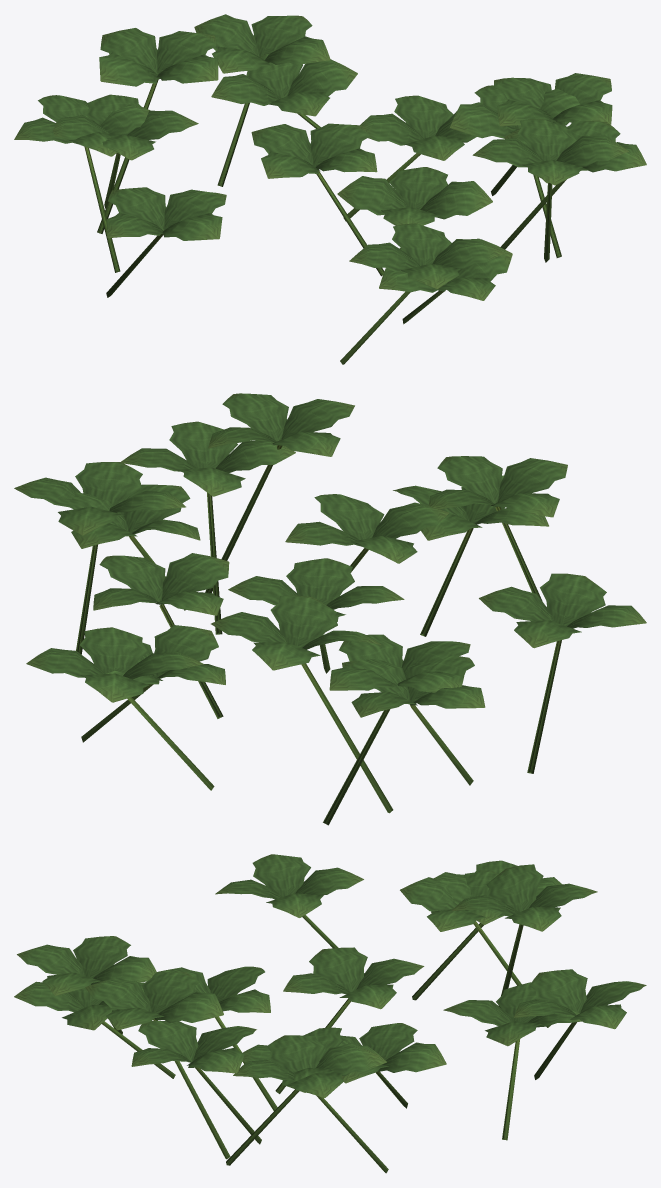
File: GroundIvy_B.fbx
3 views of the same model, one above another, from view 1: azimuth 30°, elevation 25°; view 2: azimuth 150°, elevation 25°; view 3: azimuth 270°, elevation 25° (orthographic). The views are drawn at different scales.
Parts seen in each view (by area): view 1: GroundIvy_B_LOD0; view 2: GroundIvy_B_LOD0; view 3: GroundIvy_B_LOD0.
Boxes of the visible parts, x1,y1,x2,y2 form: GroundIvy_B_LOD0: [14, 14, 646, 364]; GroundIvy_B_LOD0: [14, 393, 646, 825]; GroundIvy_B_LOD0: [14, 854, 646, 1173].
Size of what is drawn, in the model's own units: 27.35 by 7.94 by 28.91.
Materials: 1 (1 with a texture image).
